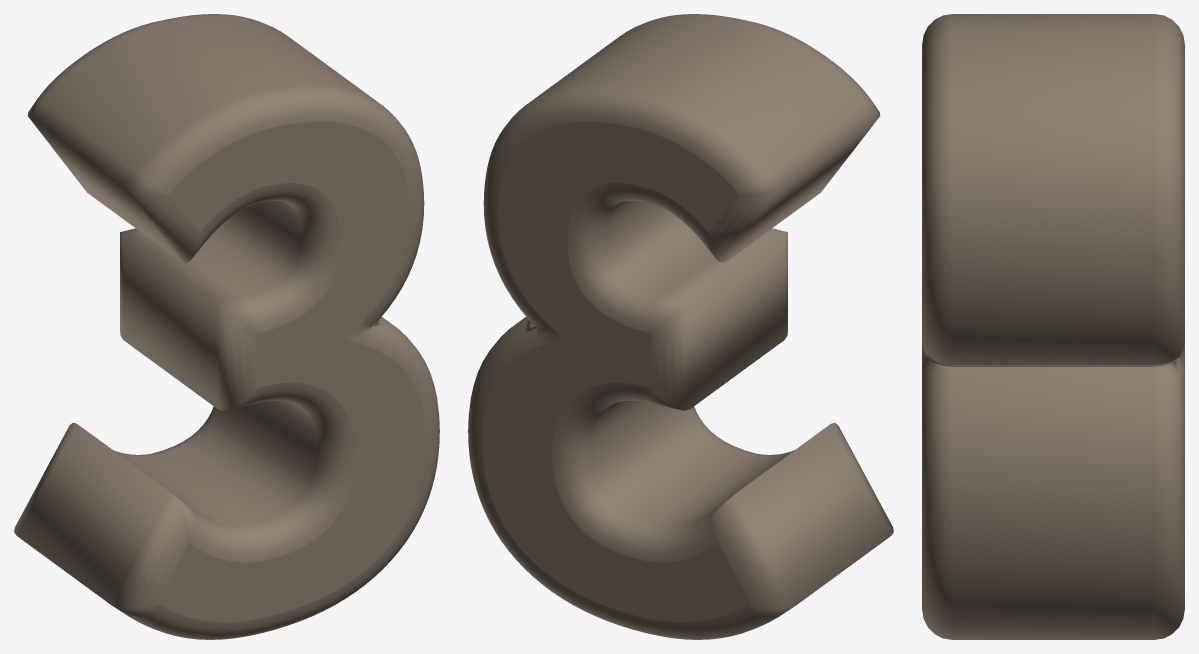
3 views of the same model, side by side, from view 1: azimuth 30°, elevation 25°; view 2: azimuth 150°, elevation 25°; view 3: azimuth 270°, elevation 25° (orthographic). The views are drawn at different scales.
Visible parts, largest first — view 1: Text; view 2: Text; view 3: Text.
Part boxes in pixels (left/top/right/bottom): Text: left=14, top=14, right=439, bottom=639; Text: left=468, top=14, right=893, bottom=639; Text: left=922, top=14, right=1184, bottom=639.
Bounding box in the file's own units: 39.79 × 63.02 × 26.
